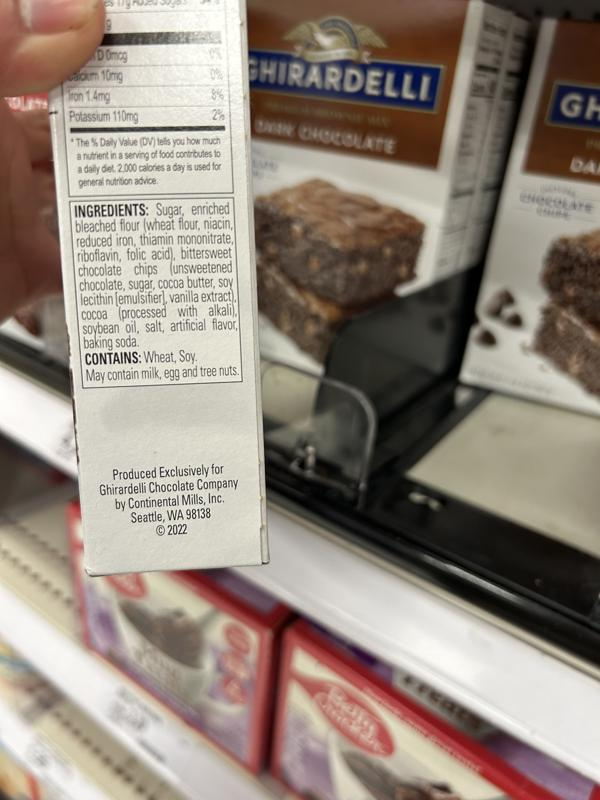ingredients: (69, 198, 242, 351)
